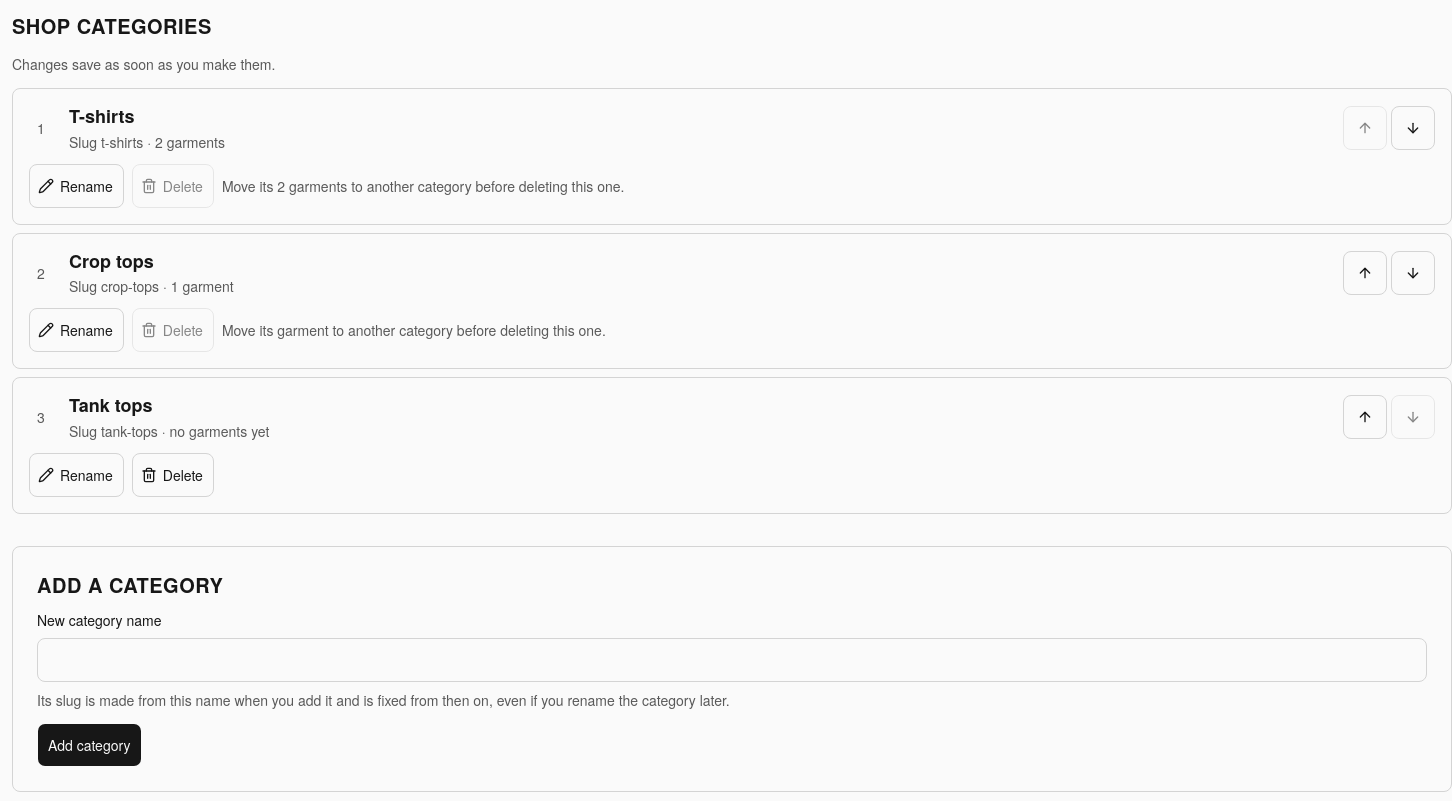
Test: CategoryManager › renaming › keeps the owner in the field with the server's words when the name is taken
Click the button named "Rename Tank tops": x=76, y=474 left=29, top=452, right=124, bottom=496
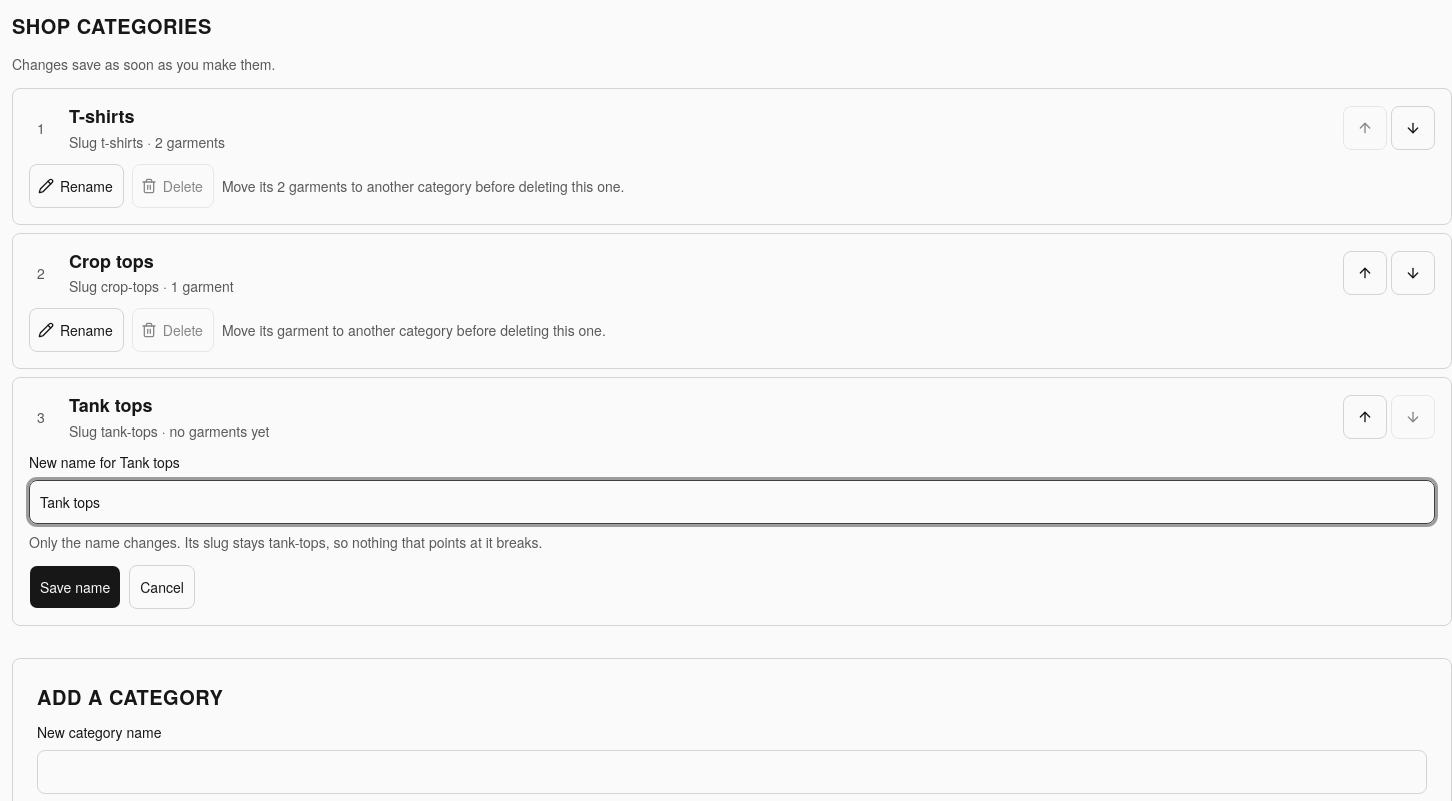
Replace the text in the field labelled "New name for Tank tops" with "Crop tops": x=732, y=502 left=29, top=480, right=1435, bottom=524
Then press Enter
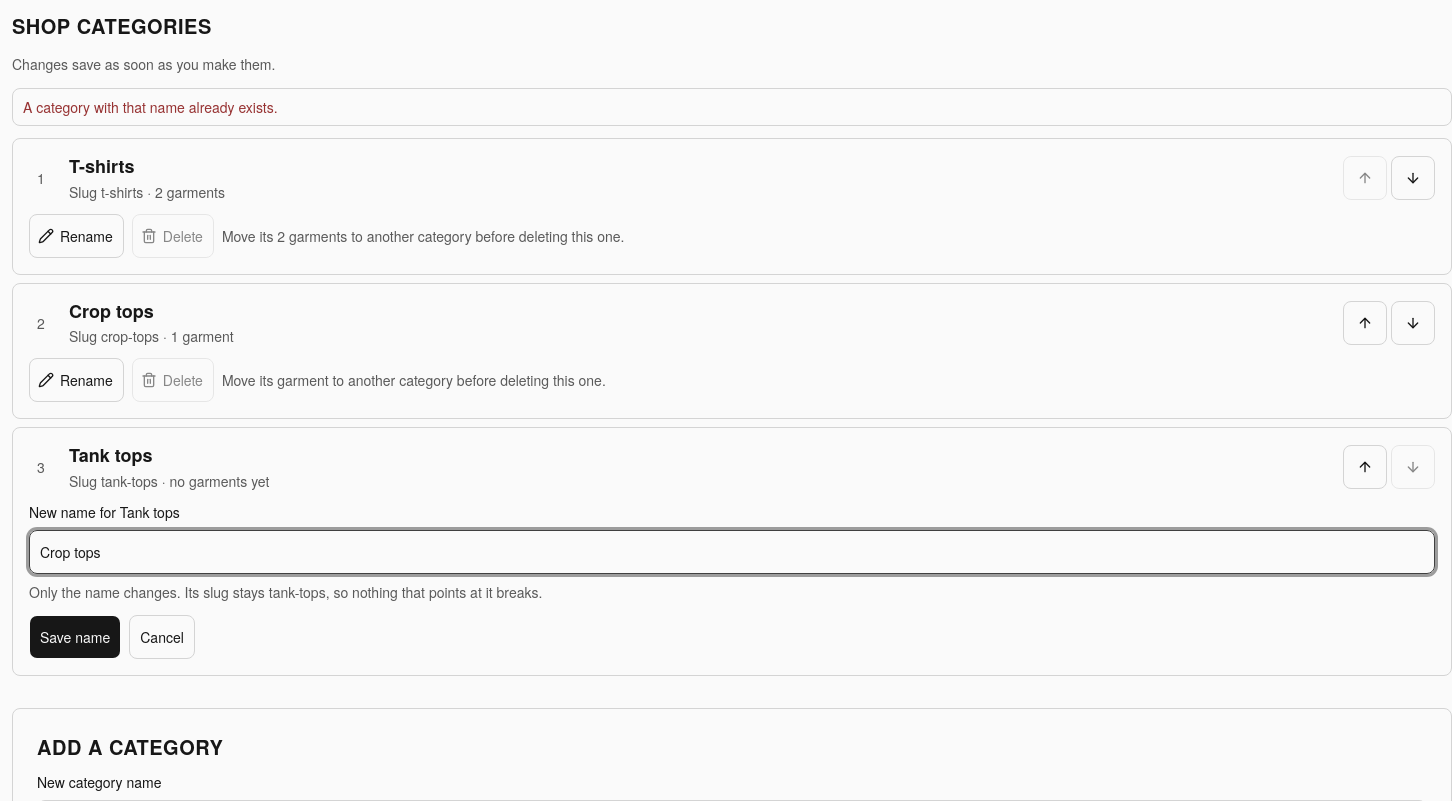
Expected: the message reads "A category with that name already exists.", left=23, top=97, right=278, bottom=117
